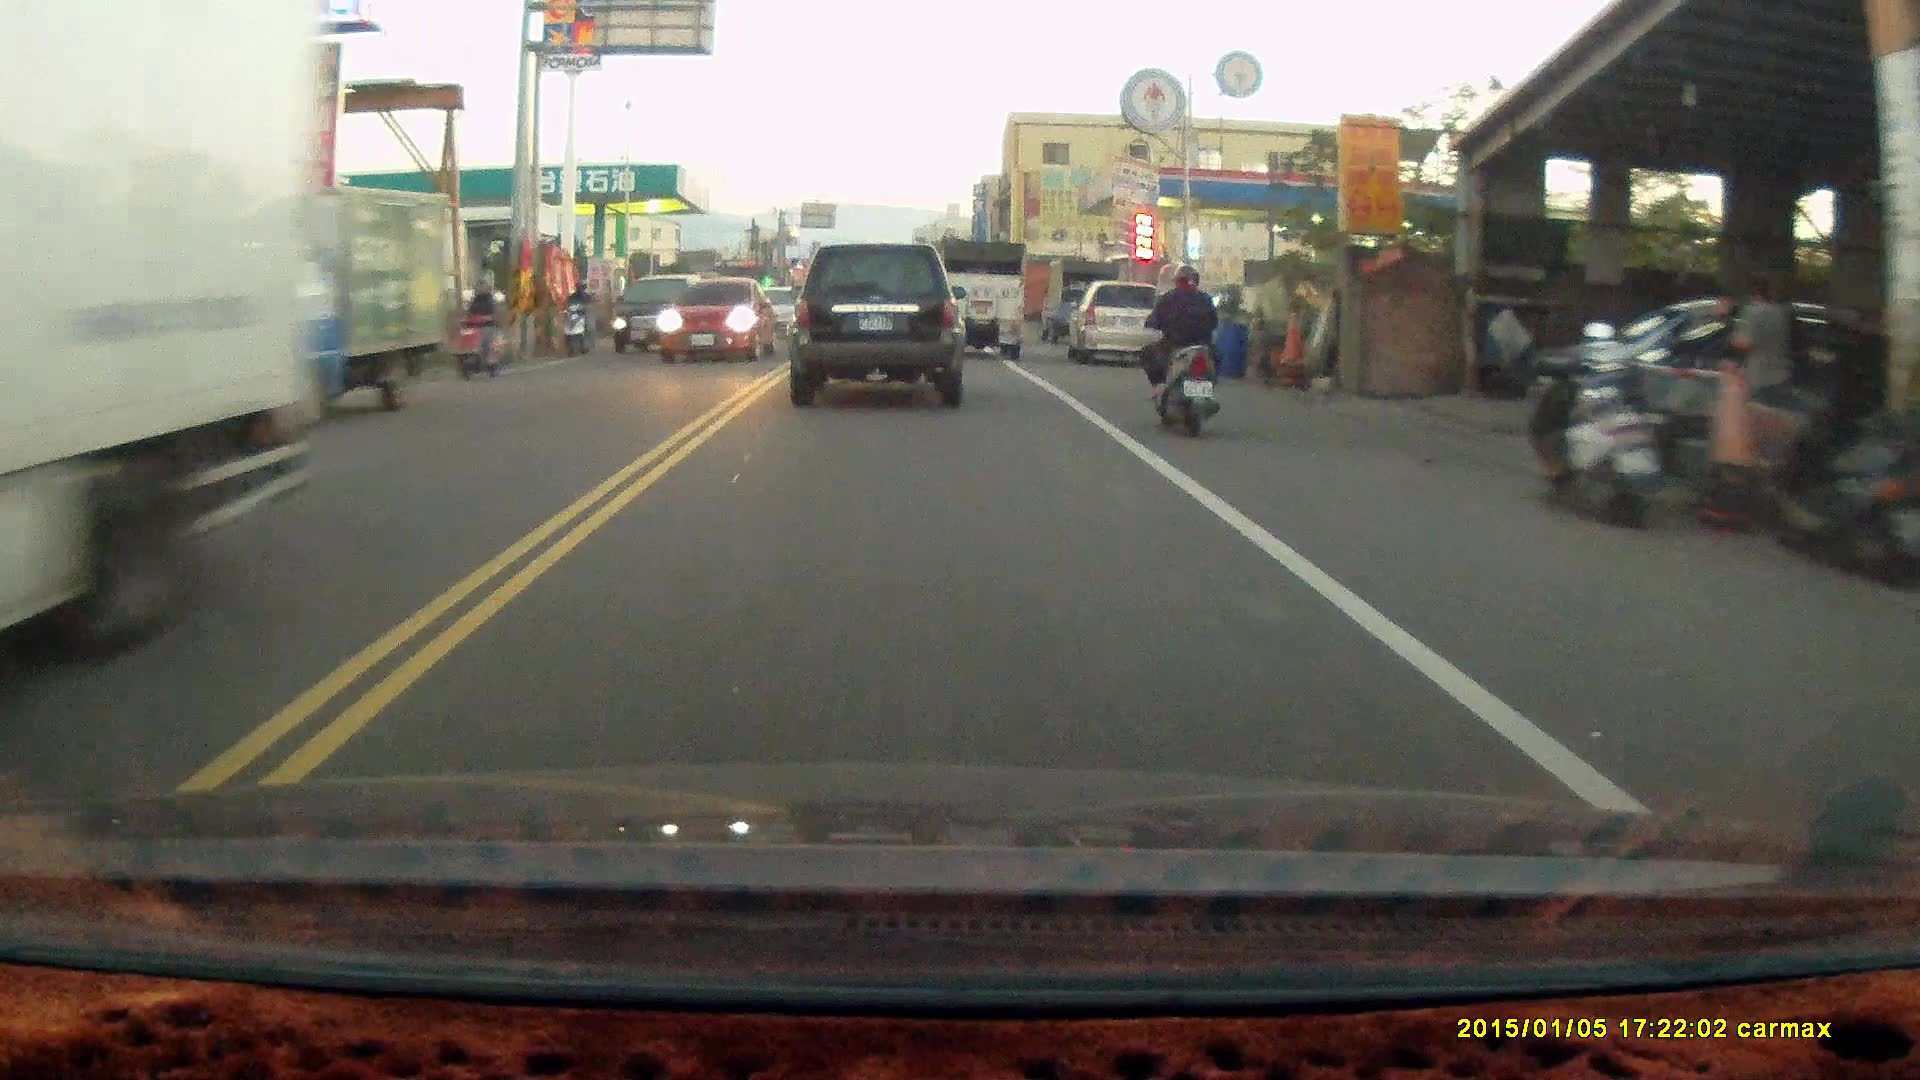pedestrian: (1730, 280, 1792, 438)
rider: (1140, 267, 1232, 444), (445, 278, 516, 377), (562, 280, 598, 356)
vehicle: (1, 15, 314, 659), (163, 183, 461, 446), (784, 243, 967, 412), (935, 239, 1028, 362), (660, 284, 784, 368), (1071, 284, 1171, 372), (612, 276, 708, 357)
